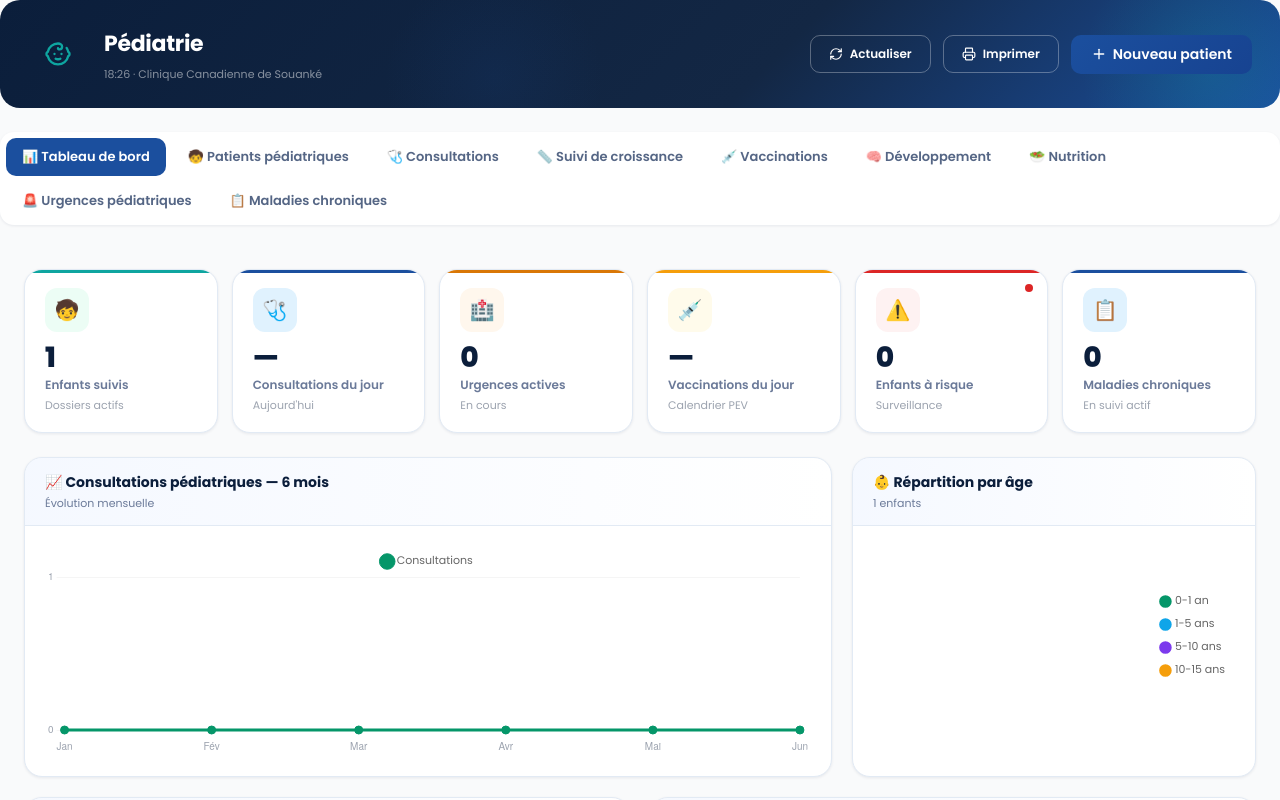
Test: une consultation réelle du dossier apparaît dans "Consultations récentes"
Click the button "🧒 Patients pédiatriques" at (268, 157), box [172,138,365,176]
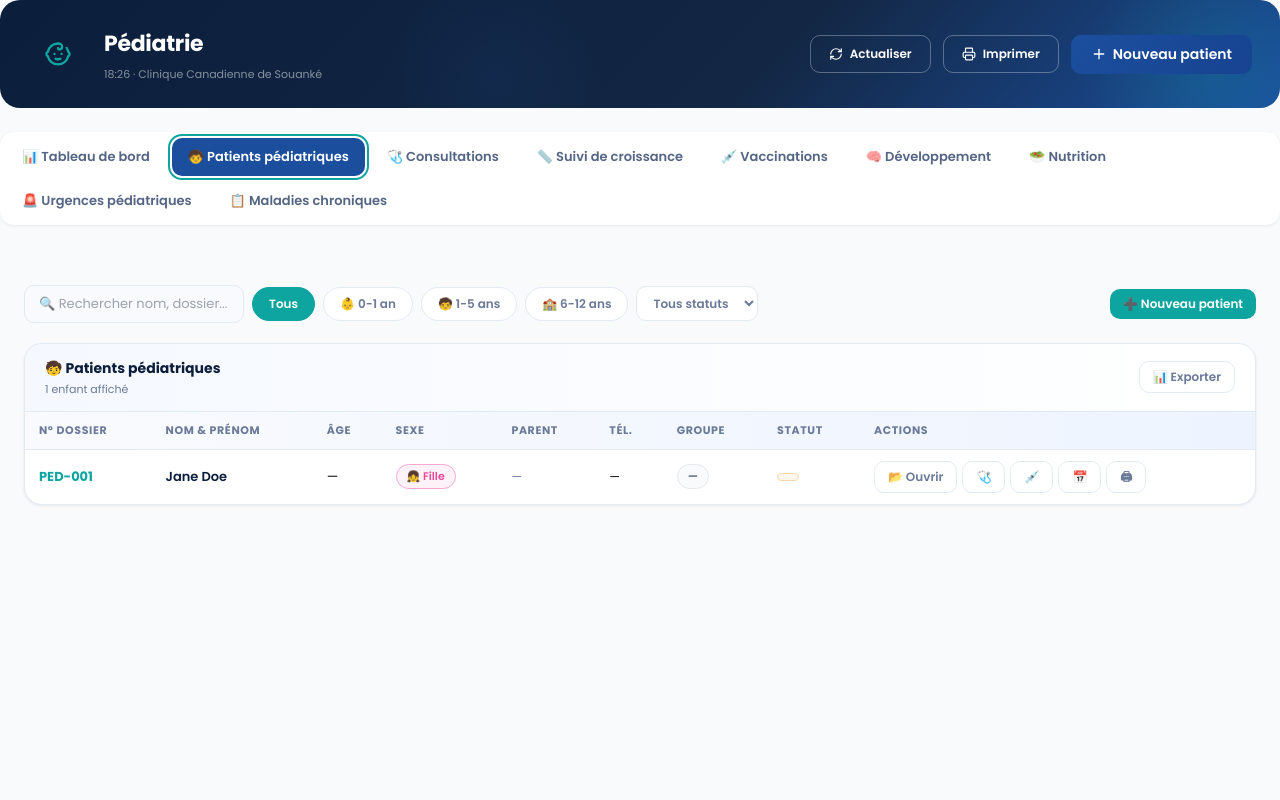
Click the button "📂 Ouvrir" at (916, 476), box [874,460,957,492]
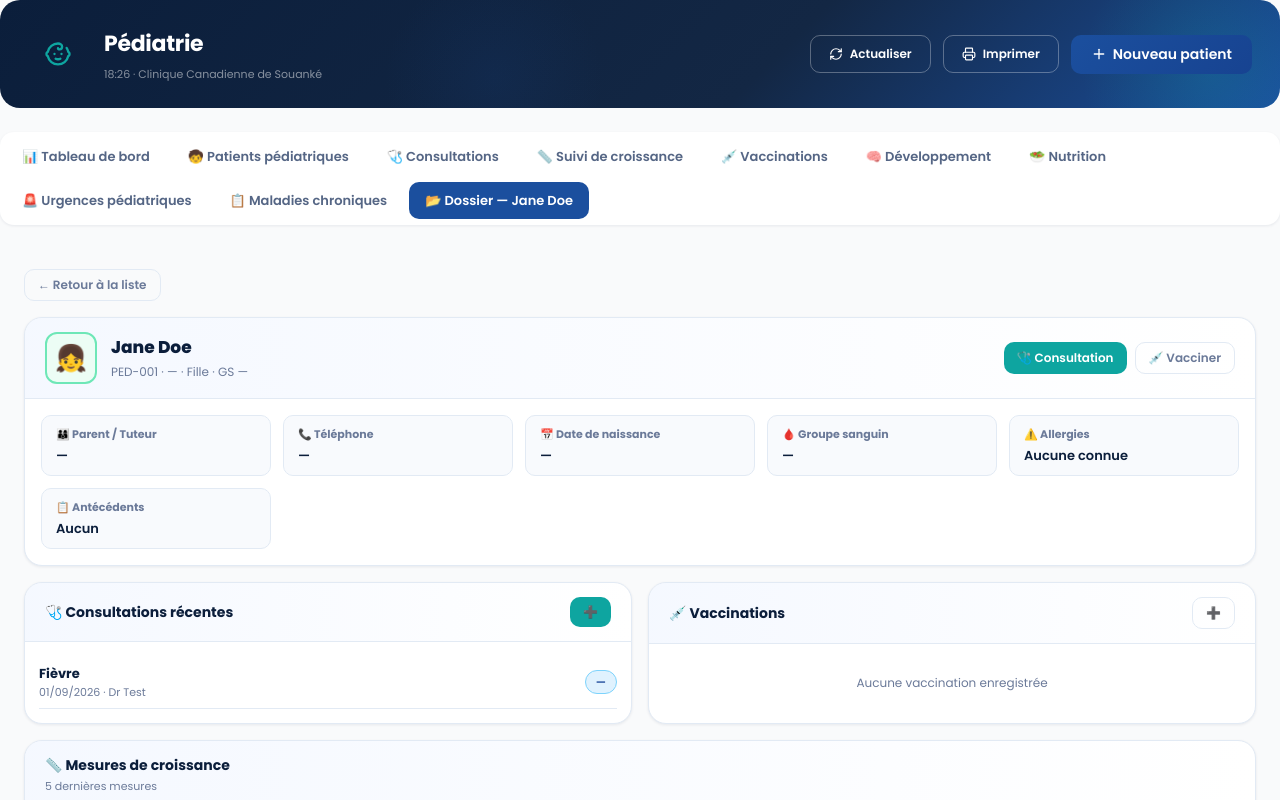
Now the heading "🩺 Consultations récentes" is shown, box [45,602,233,622]
Now the text "Fièvre" is shown, box [39,664,80,683]
